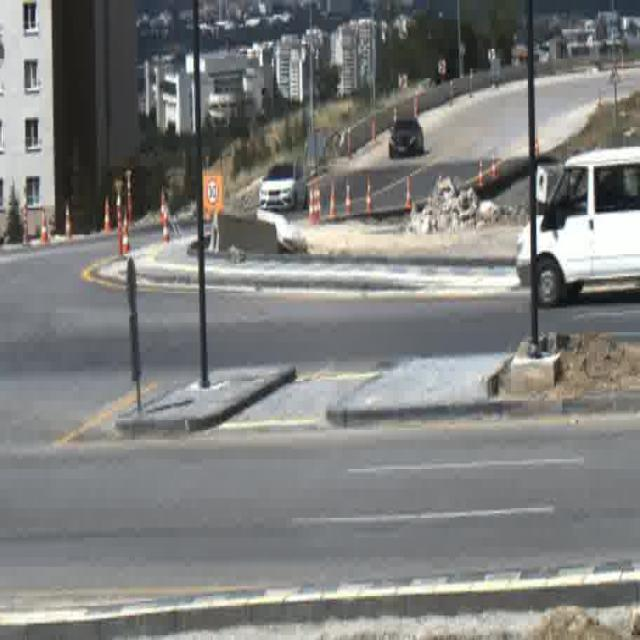Car: (511, 147, 640, 297), (258, 160, 306, 208), (389, 118, 424, 159)
